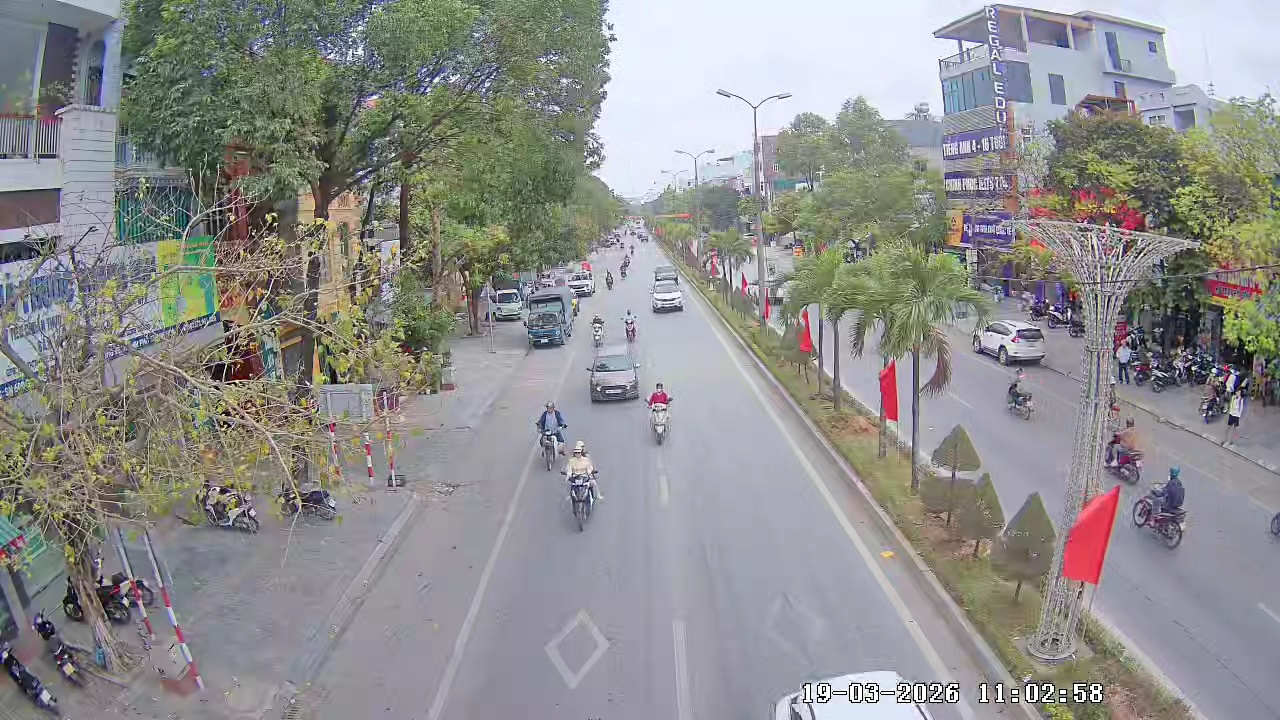car: (971, 320, 1049, 367), (586, 345, 642, 403), (649, 285, 685, 314), (653, 261, 678, 283)
motorbike: (1133, 464, 1189, 550), (560, 440, 604, 533), (1103, 416, 1146, 483), (532, 399, 569, 471), (645, 379, 674, 446), (1005, 370, 1036, 421), (622, 309, 638, 342), (590, 312, 606, 343), (603, 269, 618, 292)
truck: (523, 298, 569, 349)
